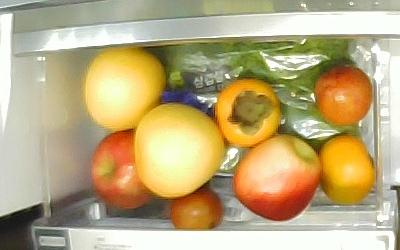apple: (233, 134, 322, 220), (91, 129, 156, 209)
grapefruit: (134, 102, 225, 198), (84, 47, 165, 131)
persimmon: (215, 78, 280, 147), (319, 133, 376, 204)
prune: (314, 65, 372, 126), (170, 187, 223, 229)
